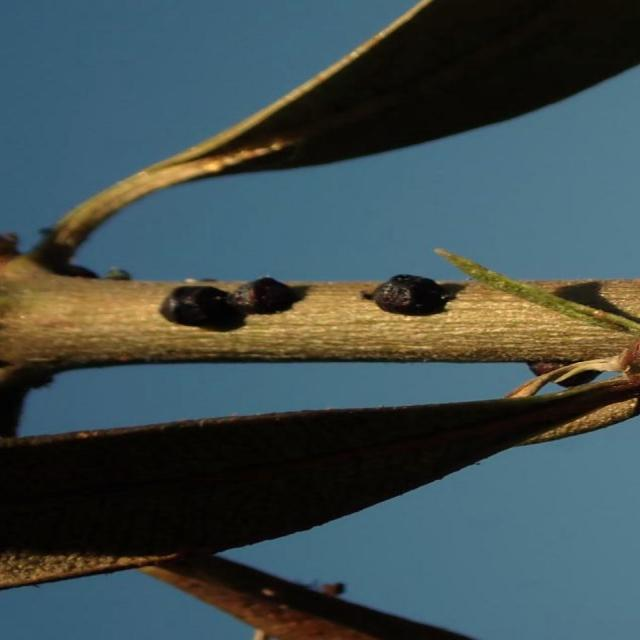Olive Fruit Fly: (159, 277, 304, 331), (362, 274, 464, 316)
